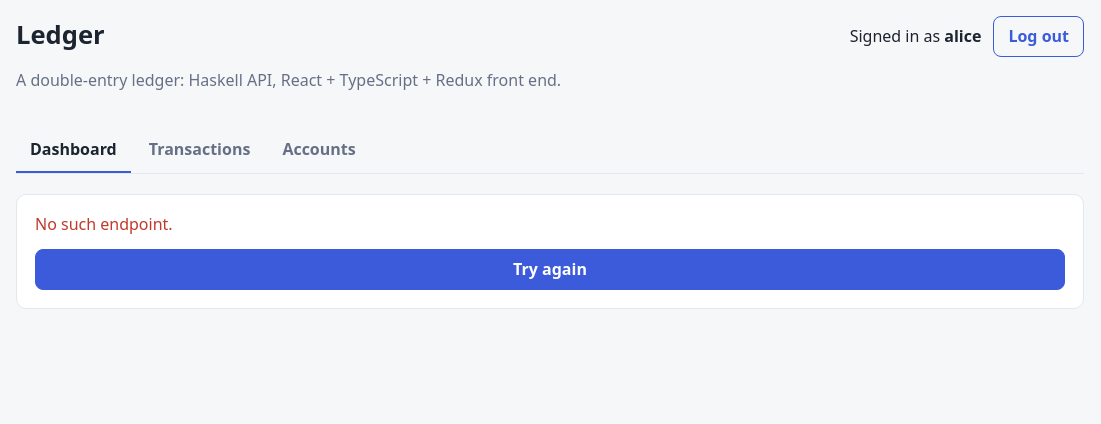
Scenario: App › goes back to the login page after logging out
Click the button "Log out". click: point(1039, 37)
box: [993,16,1084,57]
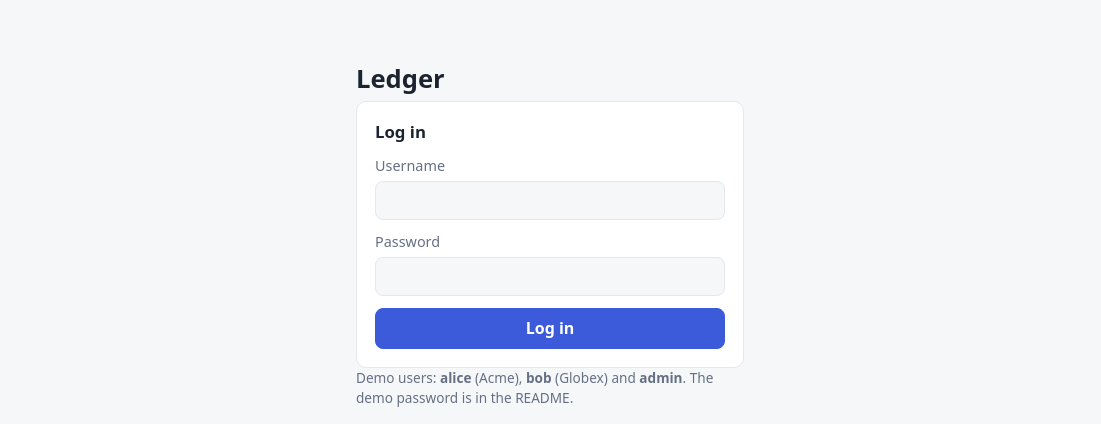
Result: the heading "Log in" is shown at [375,120,426,143]
